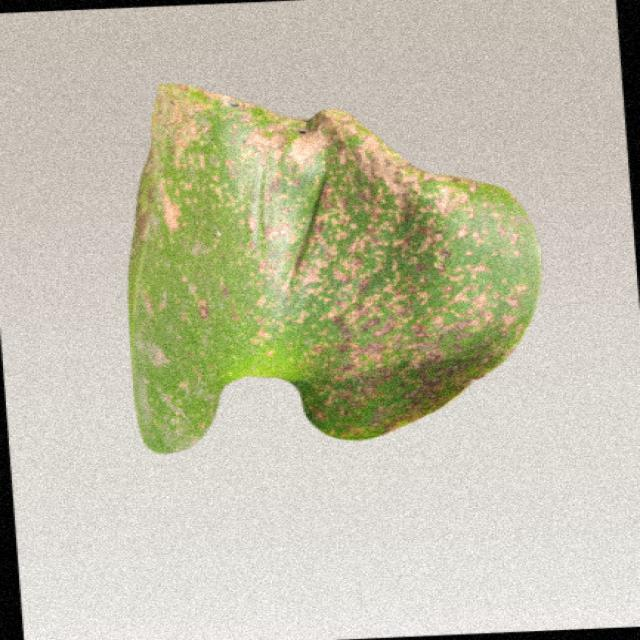daun berpenyakit bercak: (130, 85, 540, 452)
